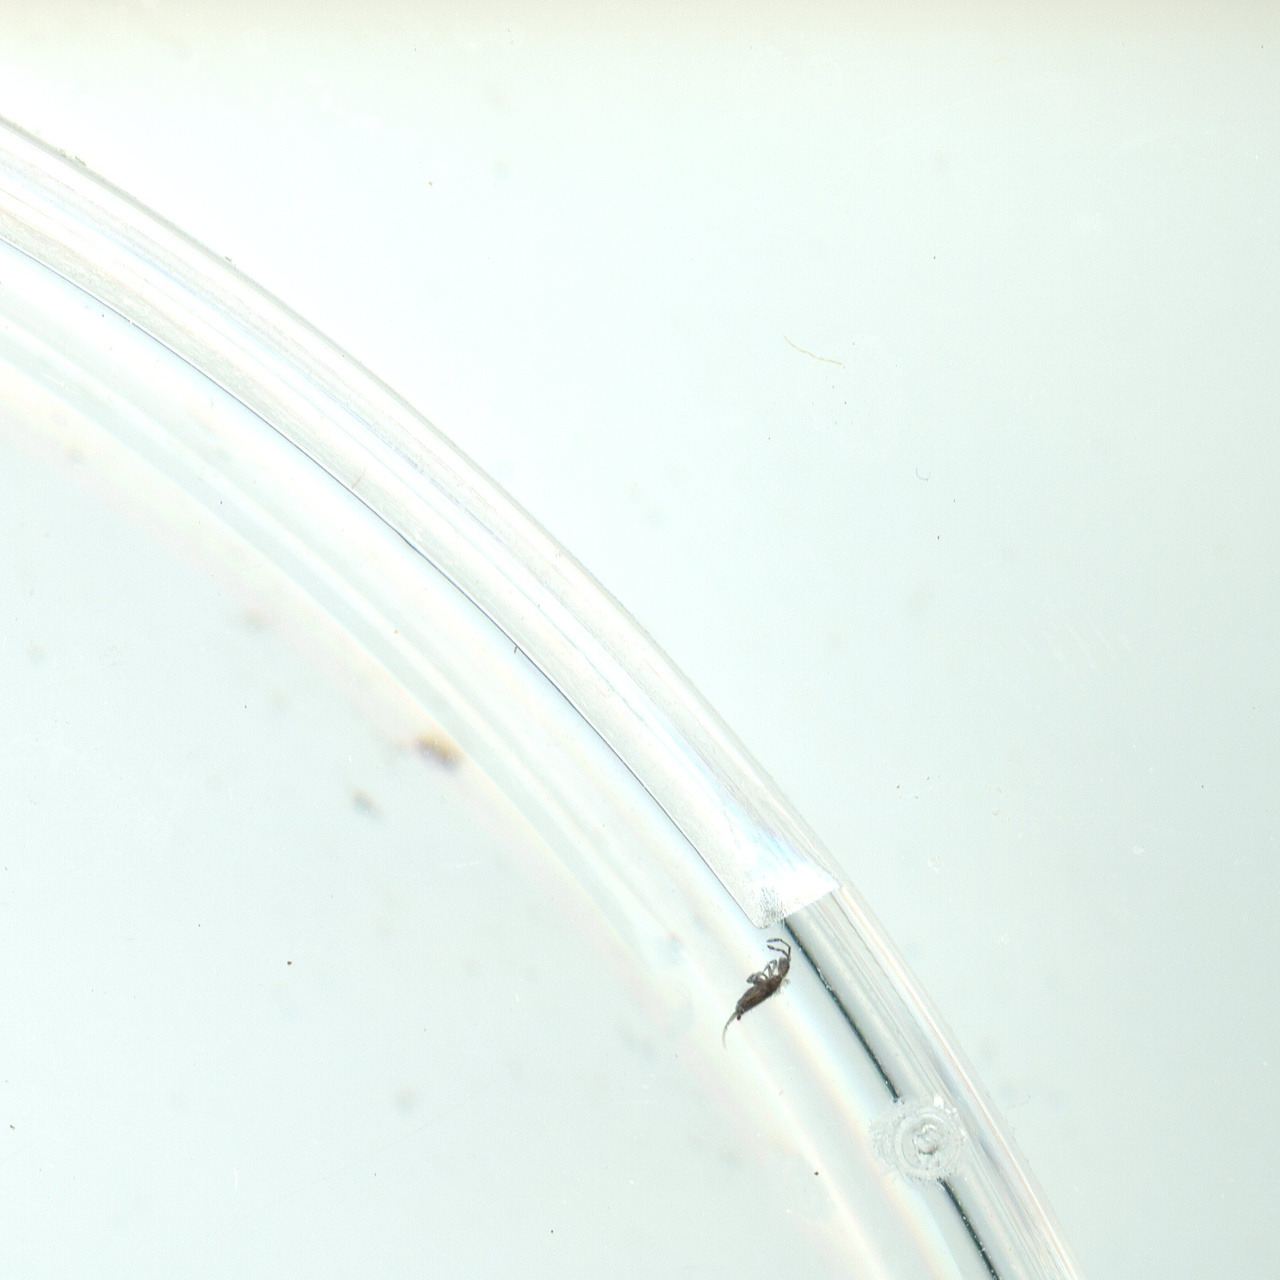arthropod: (696, 919, 813, 1074)
